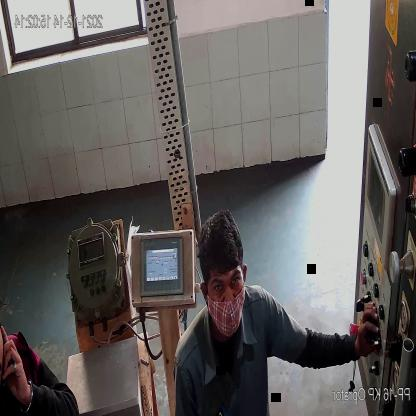no_goggles: (210, 267, 244, 299)
